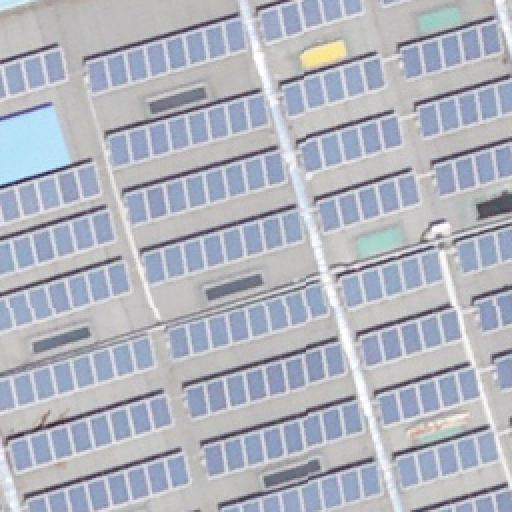solar-panel: (139, 206, 309, 290), (104, 88, 272, 172), (84, 14, 252, 98), (7, 391, 177, 473), (120, 151, 288, 233), (0, 331, 164, 413), (206, 398, 366, 482), (184, 342, 348, 422), (168, 282, 332, 362), (22, 448, 194, 512), (0, 258, 136, 334), (0, 206, 122, 278), (223, 457, 385, 511), (277, 54, 387, 122), (296, 111, 408, 177), (314, 170, 422, 238), (398, 16, 506, 84), (395, 426, 501, 494), (0, 162, 104, 230), (377, 366, 487, 430), (356, 306, 464, 370), (336, 249, 444, 311), (416, 78, 512, 142), (256, 0, 364, 48), (432, 142, 512, 202), (0, 44, 76, 100), (456, 228, 512, 276), (425, 486, 511, 512), (476, 289, 512, 335), (496, 353, 512, 391), (380, 0, 412, 8)
